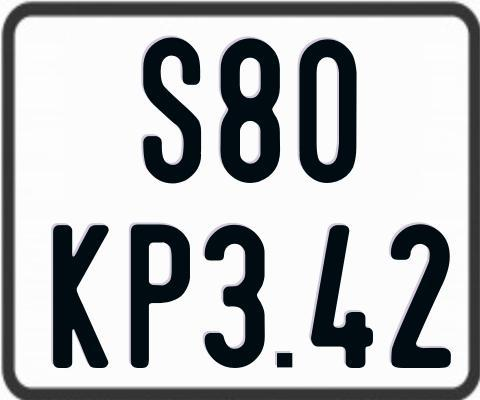0: (299, 38, 357, 186)
2: (389, 223, 453, 369)
3: (205, 222, 270, 366)
4: (309, 222, 375, 368)
8: (220, 38, 280, 188)
K: (52, 223, 109, 368)
P: (130, 223, 192, 373)
S: (141, 37, 200, 187)
